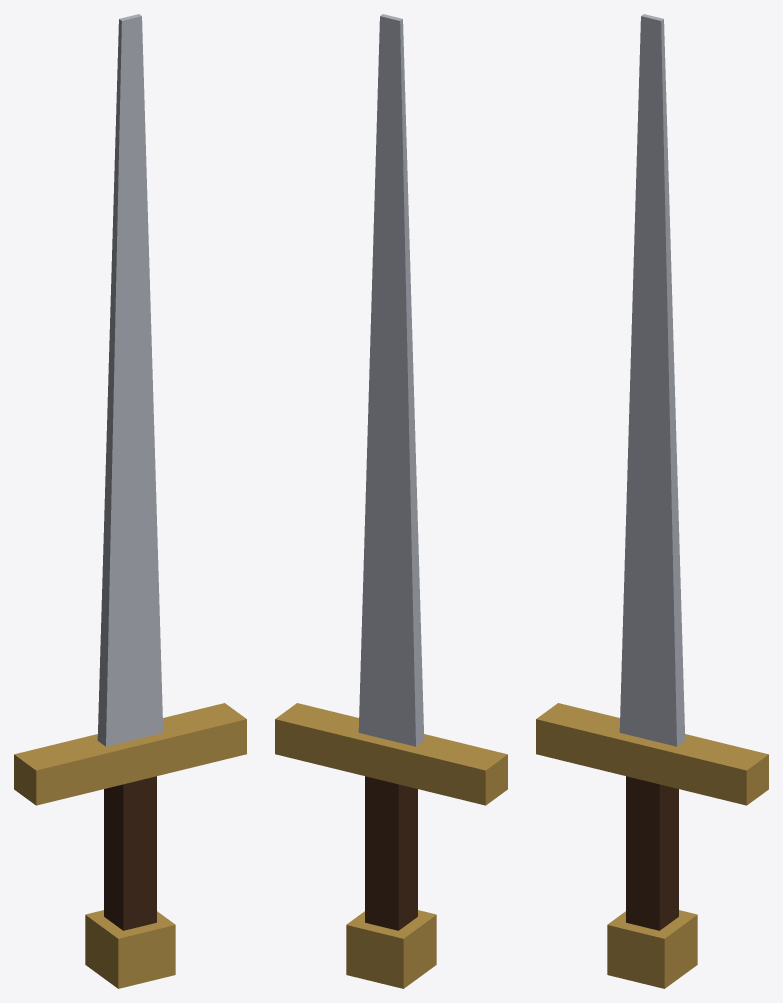
The model's file is sword.glb.
3 views of the same model, side by side, from view 1: azimuth 30°, elevation 25°; view 2: azimuth 150°, elevation 25°; view 3: azimuth 330°, elevation 25° (orthographic).
Visible parts, largest first — view 1: sword; view 2: sword; view 3: sword.
Boxes of the visible parts, left/top/right/bottom form: sword: left=14, top=14, right=246, bottom=988; sword: left=275, top=14, right=507, bottom=988; sword: left=536, top=14, right=768, bottom=988.
Size of the model in its own units: 0.22 by 0.95 by 0.06.
